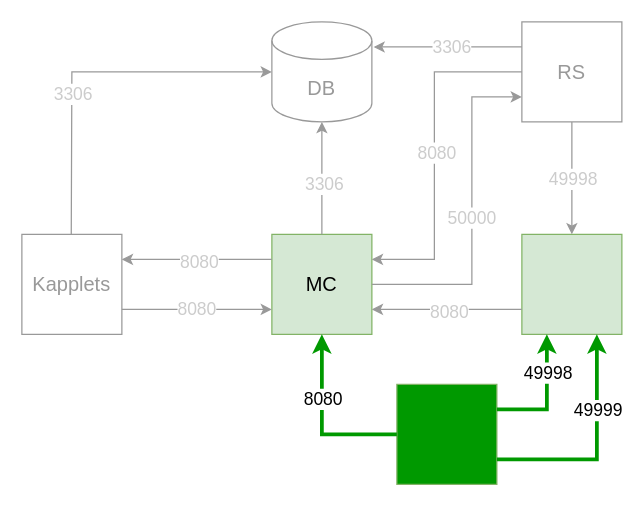
This 644x506 diagram has some shape labels left out. Each missing label, with the box of its shape:
DAS: (521, 233, 622, 334)
DS: (396, 383, 497, 484)
